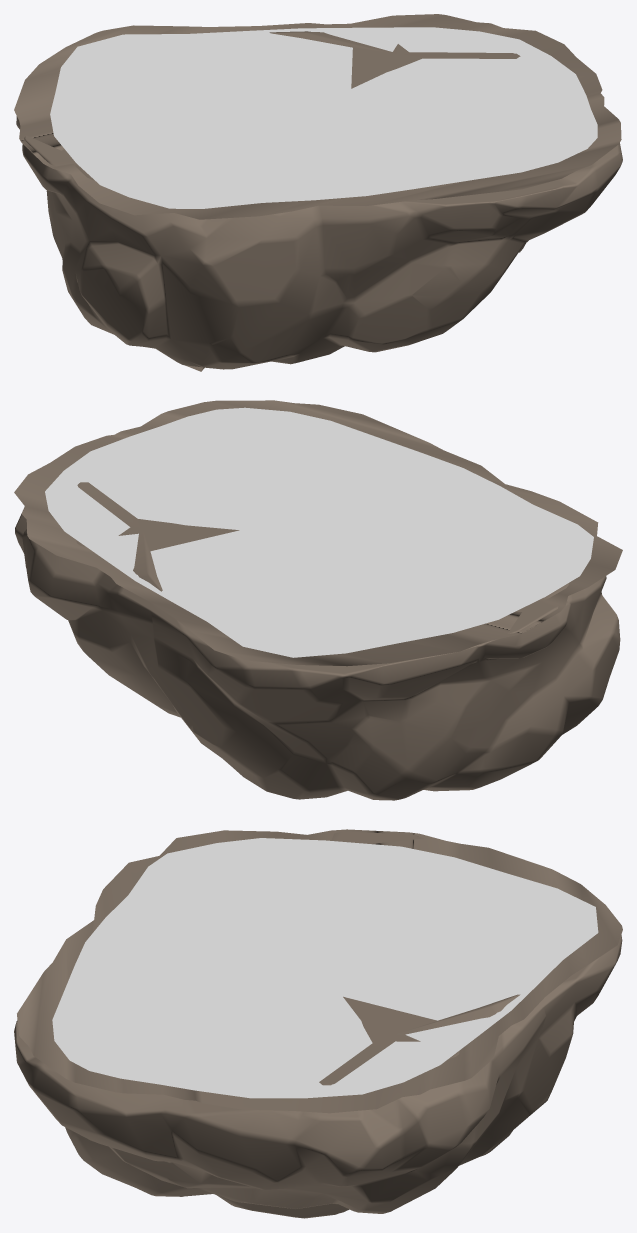
The model's file is IlhaP2.fbx.
The picture shows the model from 3 angles, top to bottom: view 1: azimuth 30°, elevation 25°; view 2: azimuth 150°, elevation 25°; view 3: azimuth 270°, elevation 25°; orthographic projection. The views are drawn at different scales.
Visible parts, largest first — view 1: IlhaP2Grama, IlhaP2, IlhaP2Colisor; view 2: IlhaP2Grama, IlhaP2, IlhaP2Colisor; view 3: IlhaP2Grama, IlhaP2, IlhaP2Colisor.
Boxes of the visible parts, <box> form: IlhaP2Grama: <box>50,27,597,208</box>; IlhaP2: <box>16,31,622,371</box>; IlhaP2Colisor: <box>14,14,621,219</box>; IlhaP2Grama: <box>45,407,593,657</box>; IlhaP2: <box>15,482,620,800</box>; IlhaP2Colisor: <box>14,400,622,666</box>; IlhaP2Grama: <box>52,838,598,1098</box>; IlhaP2: <box>14,831,622,1218</box>; IlhaP2Colisor: <box>17,829,622,1113</box>.
Bounding box in the file's own units: 1129 × 441 × 1021.
